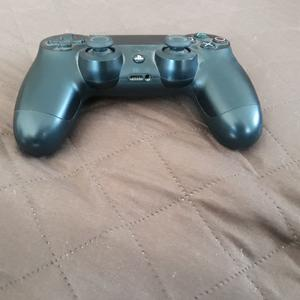controller: (13, 33, 263, 159)
